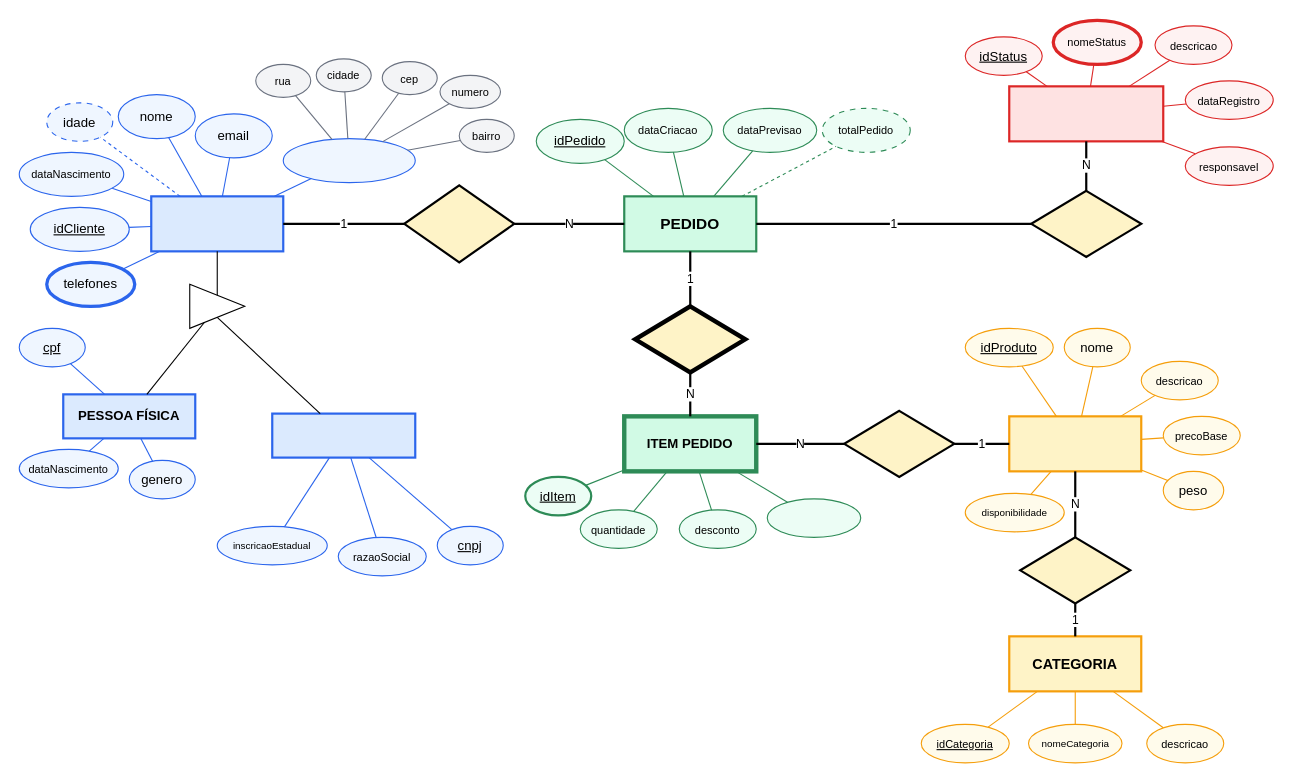
This 1293x782 diagram has some shape labels left out. Here are the shapes that lost their labels. From the top down, the centre of each, then its label:
(x=1086, y=113): STATUS ENTREGA
(x=348, y=160): enderecoCompleto
(x=217, y=223): CLIENTE
(x=459, y=223): faz
(x=1086, y=223): possui
(x=217, y=305): d,t
(x=689, y=339): contém
(x=343, y=435): PESSOA JURÍDICA
(x=899, y=443): referencia
(x=1075, y=443): PRODUTO
(x=813, y=517): precoUnitario
(x=1075, y=570): pertence
